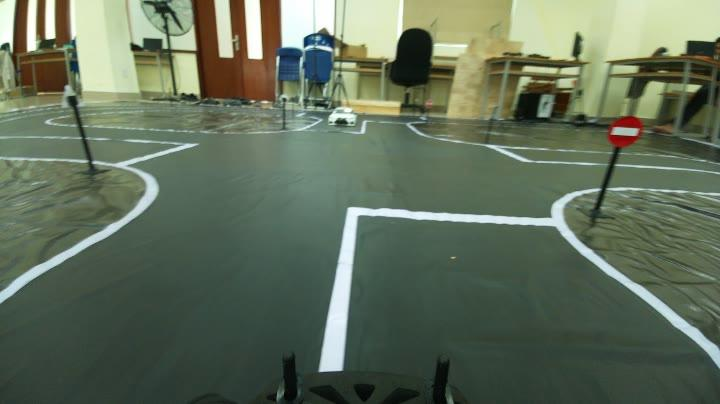no_entry: (604, 114, 643, 152)
